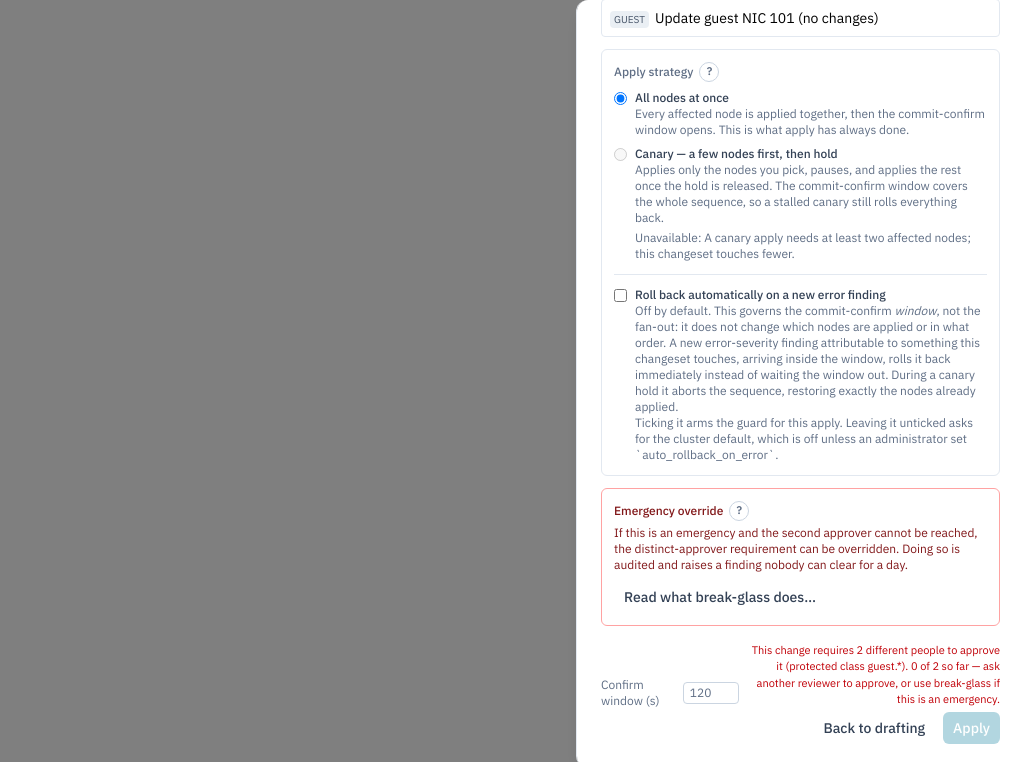
Test: ReviewApplyScreen — break-glass (T-3002 AC2) › is not one click from the blocked state, and states the consequence before any confirm
(page scrolled)
Expected: the button "record break-glass" is not shown
Note: Click 1 only reveals what it does. Still no confirm control.
Click the button "Read what break-glass does…" at (720, 597), box [614, 581, 826, 613]
(page scrolled)
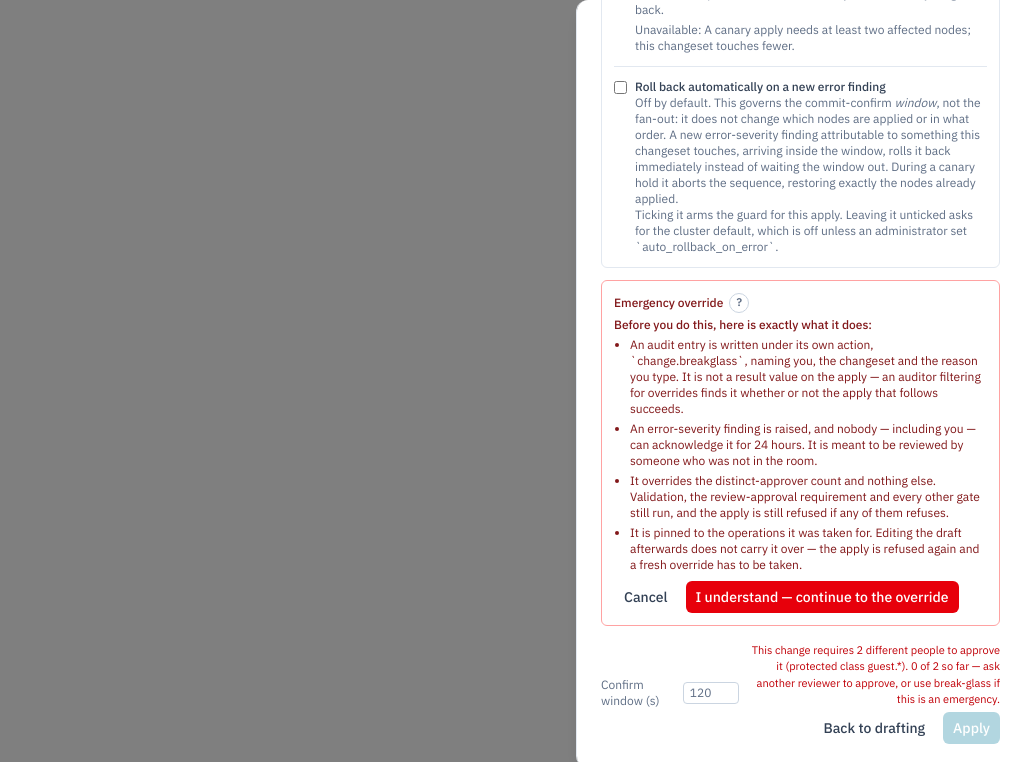
Expected: the element with test id "break-glass-consequences" shows "change.breakglass", [630, 337, 981, 416]
Expected: the element with test id "break-glass-consequences" shows "24 hours", [630, 421, 976, 468]
Expected: the element with test id "break-glass-consequences" shows "distinct-approver count and nothing else", [630, 473, 980, 520]
Click the button "I understand — continue to the override" at (822, 597), box [686, 581, 959, 613]
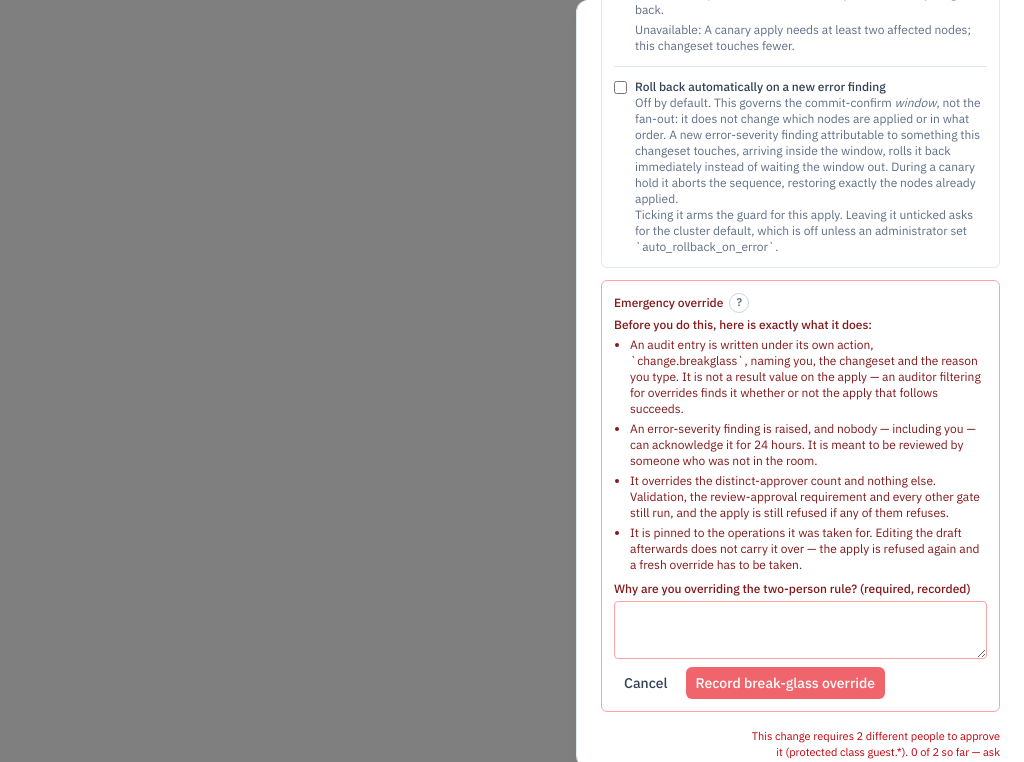
Expected: the element with test id "break-glass-consequences" is shown, [614, 317, 987, 573]
Expected: the button "Record break-glass override" is disabled, [686, 667, 885, 699]
